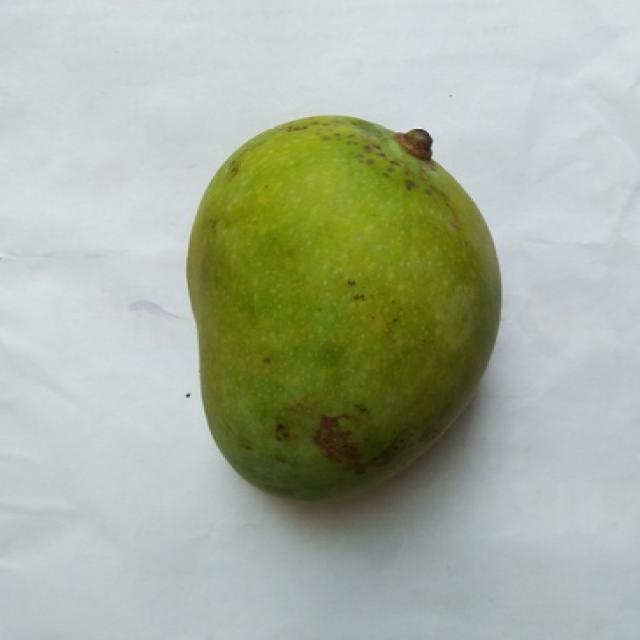Mango: (186, 116, 499, 500)
